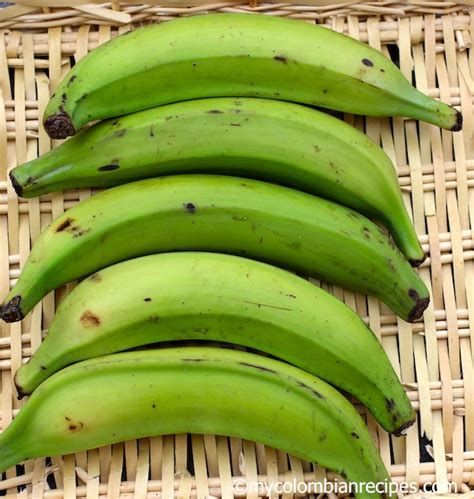banana: (11, 92, 428, 266), (28, 249, 415, 435), (3, 172, 431, 323), (6, 345, 397, 499), (29, 9, 464, 141)
